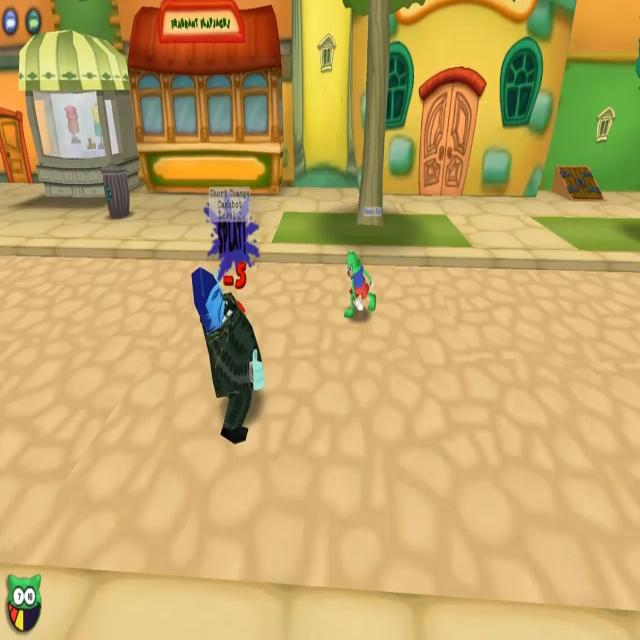shortchange: (190, 187, 268, 459)
